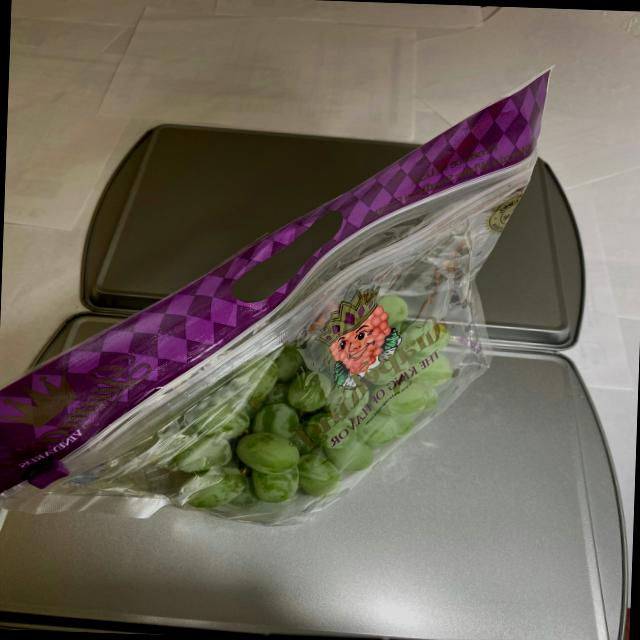grapes: (153, 272, 456, 536)
